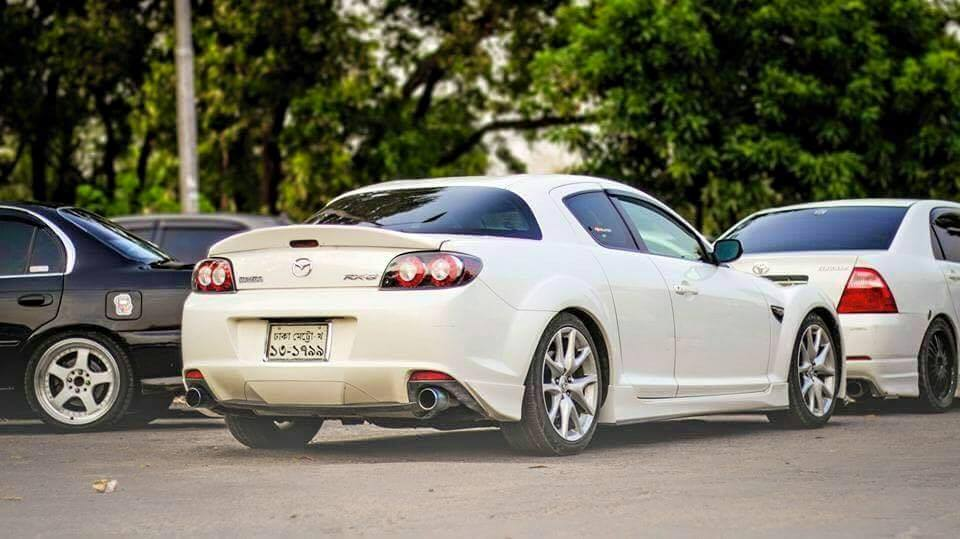registration_plate: (267, 323, 329, 360)
